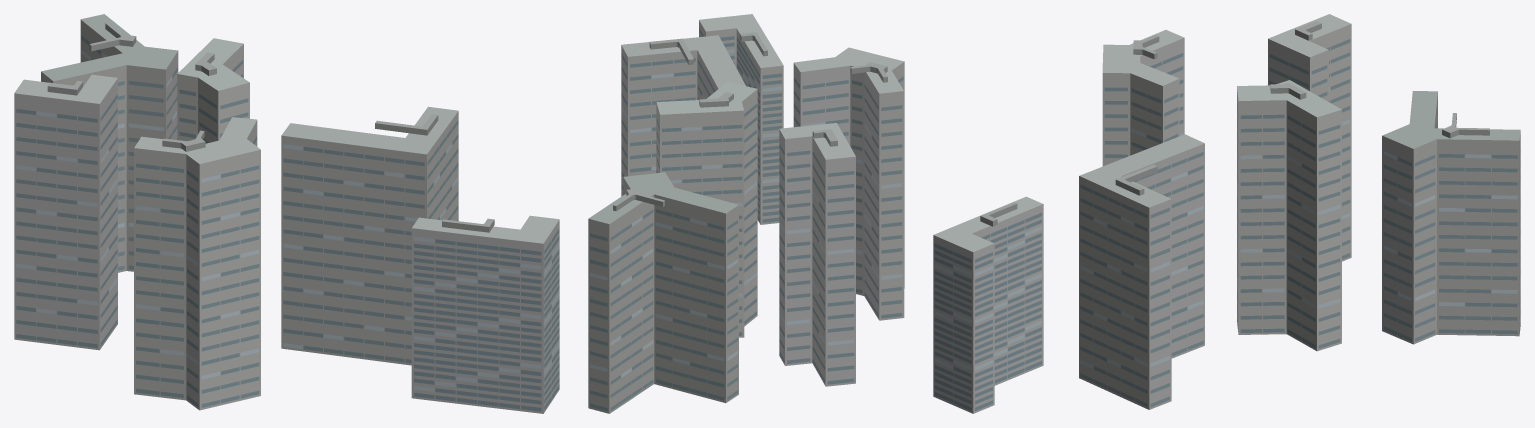
The model's file is apt-a10024974.glb.
3 renders of one model, left to right at view 1: azimuth 30°, elevation 25°; view 2: azimuth 150°, elevation 25°; view 3: azimuth 270°, elevation 25°, orthographic. The views are drawn at different scales.
Visible parts, largest first — view 1: apt-a10024974; view 2: apt-a10024974; view 3: apt-a10024974.
Boxes of the visible parts, <box> form: apt-a10024974: <box>14,14,559,413</box>; apt-a10024974: <box>588,14,904,413</box>; apt-a10024974: <box>933,14,1520,413</box>.
Size of the model in its own units: 158 by 106 by 236.
